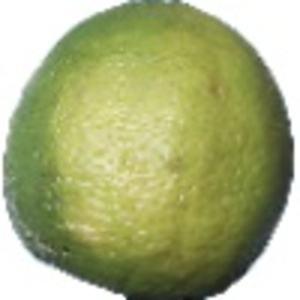limão: (3, 1, 295, 300)
